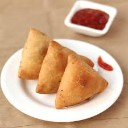samosa: (36, 40, 95, 97), (56, 54, 109, 107), (18, 27, 62, 80)
